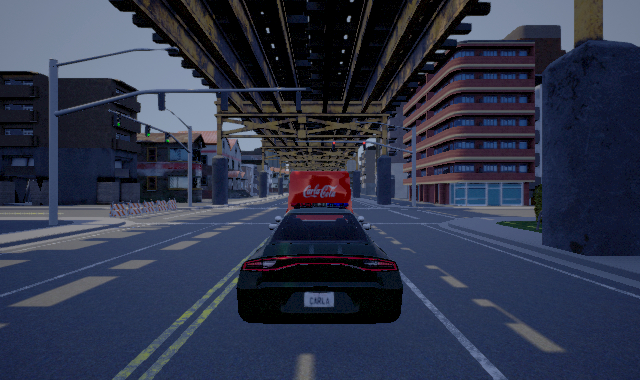traffic_light: (114, 113, 121, 127), (145, 124, 151, 137), (165, 132, 170, 143), (363, 142, 366, 151), (332, 142, 335, 151)
vehicle: (236, 207, 401, 324), (287, 171, 351, 210)
